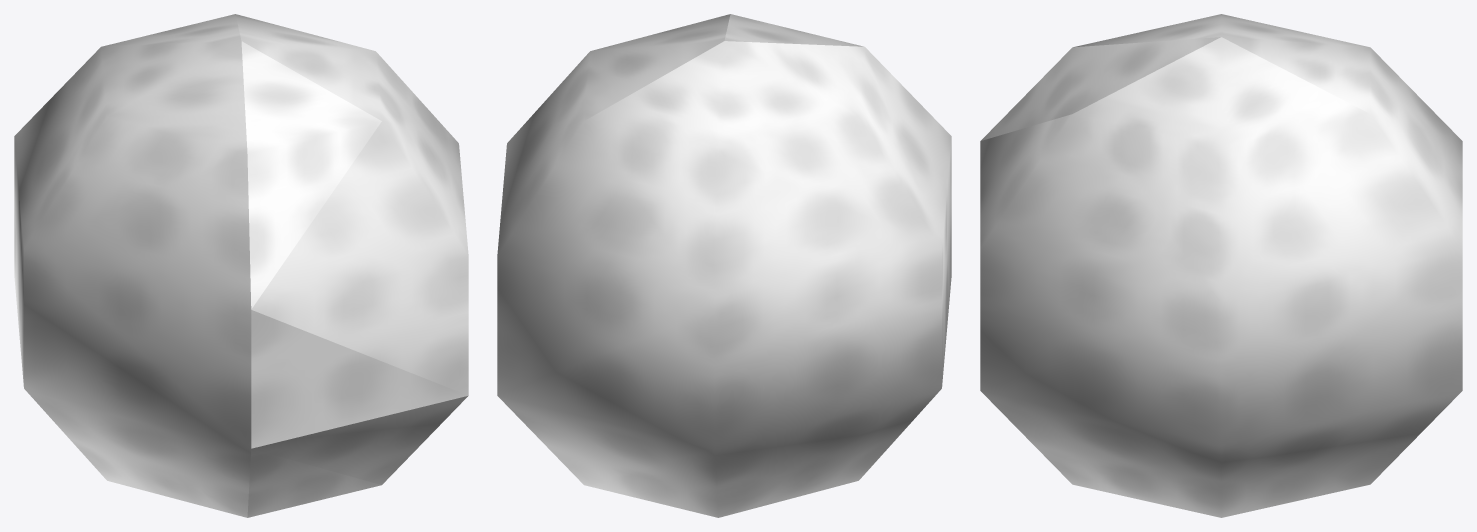
The model's file is golf_ball.glb.
3 views of the same model, side by side, from view 1: azimuth 30°, elevation 25°; view 2: azimuth 150°, elevation 25°; view 3: azimuth 270°, elevation 25° (orthographic).
Parts seen in each view (by area): view 1: golf_ball_uv1; view 2: golf_ball_uv1; view 3: golf_ball_uv1.
Boxes of the visible parts, <box> form: golf_ball_uv1: <box>14,14,468,517</box>; golf_ball_uv1: <box>497,14,951,517</box>; golf_ball_uv1: <box>980,14,1462,517</box>.
Bounding box in the file's own units: 0.3073 × 0.3037 × 0.29.
1 material, 1 textured.
